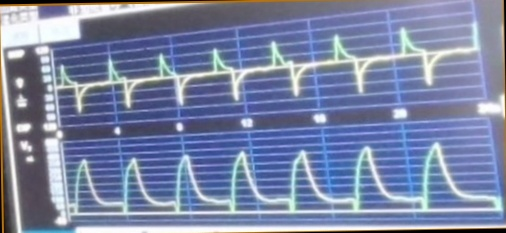Flow: (57, 30, 478, 113)
Leakage Volume: (69, 140, 498, 222)
